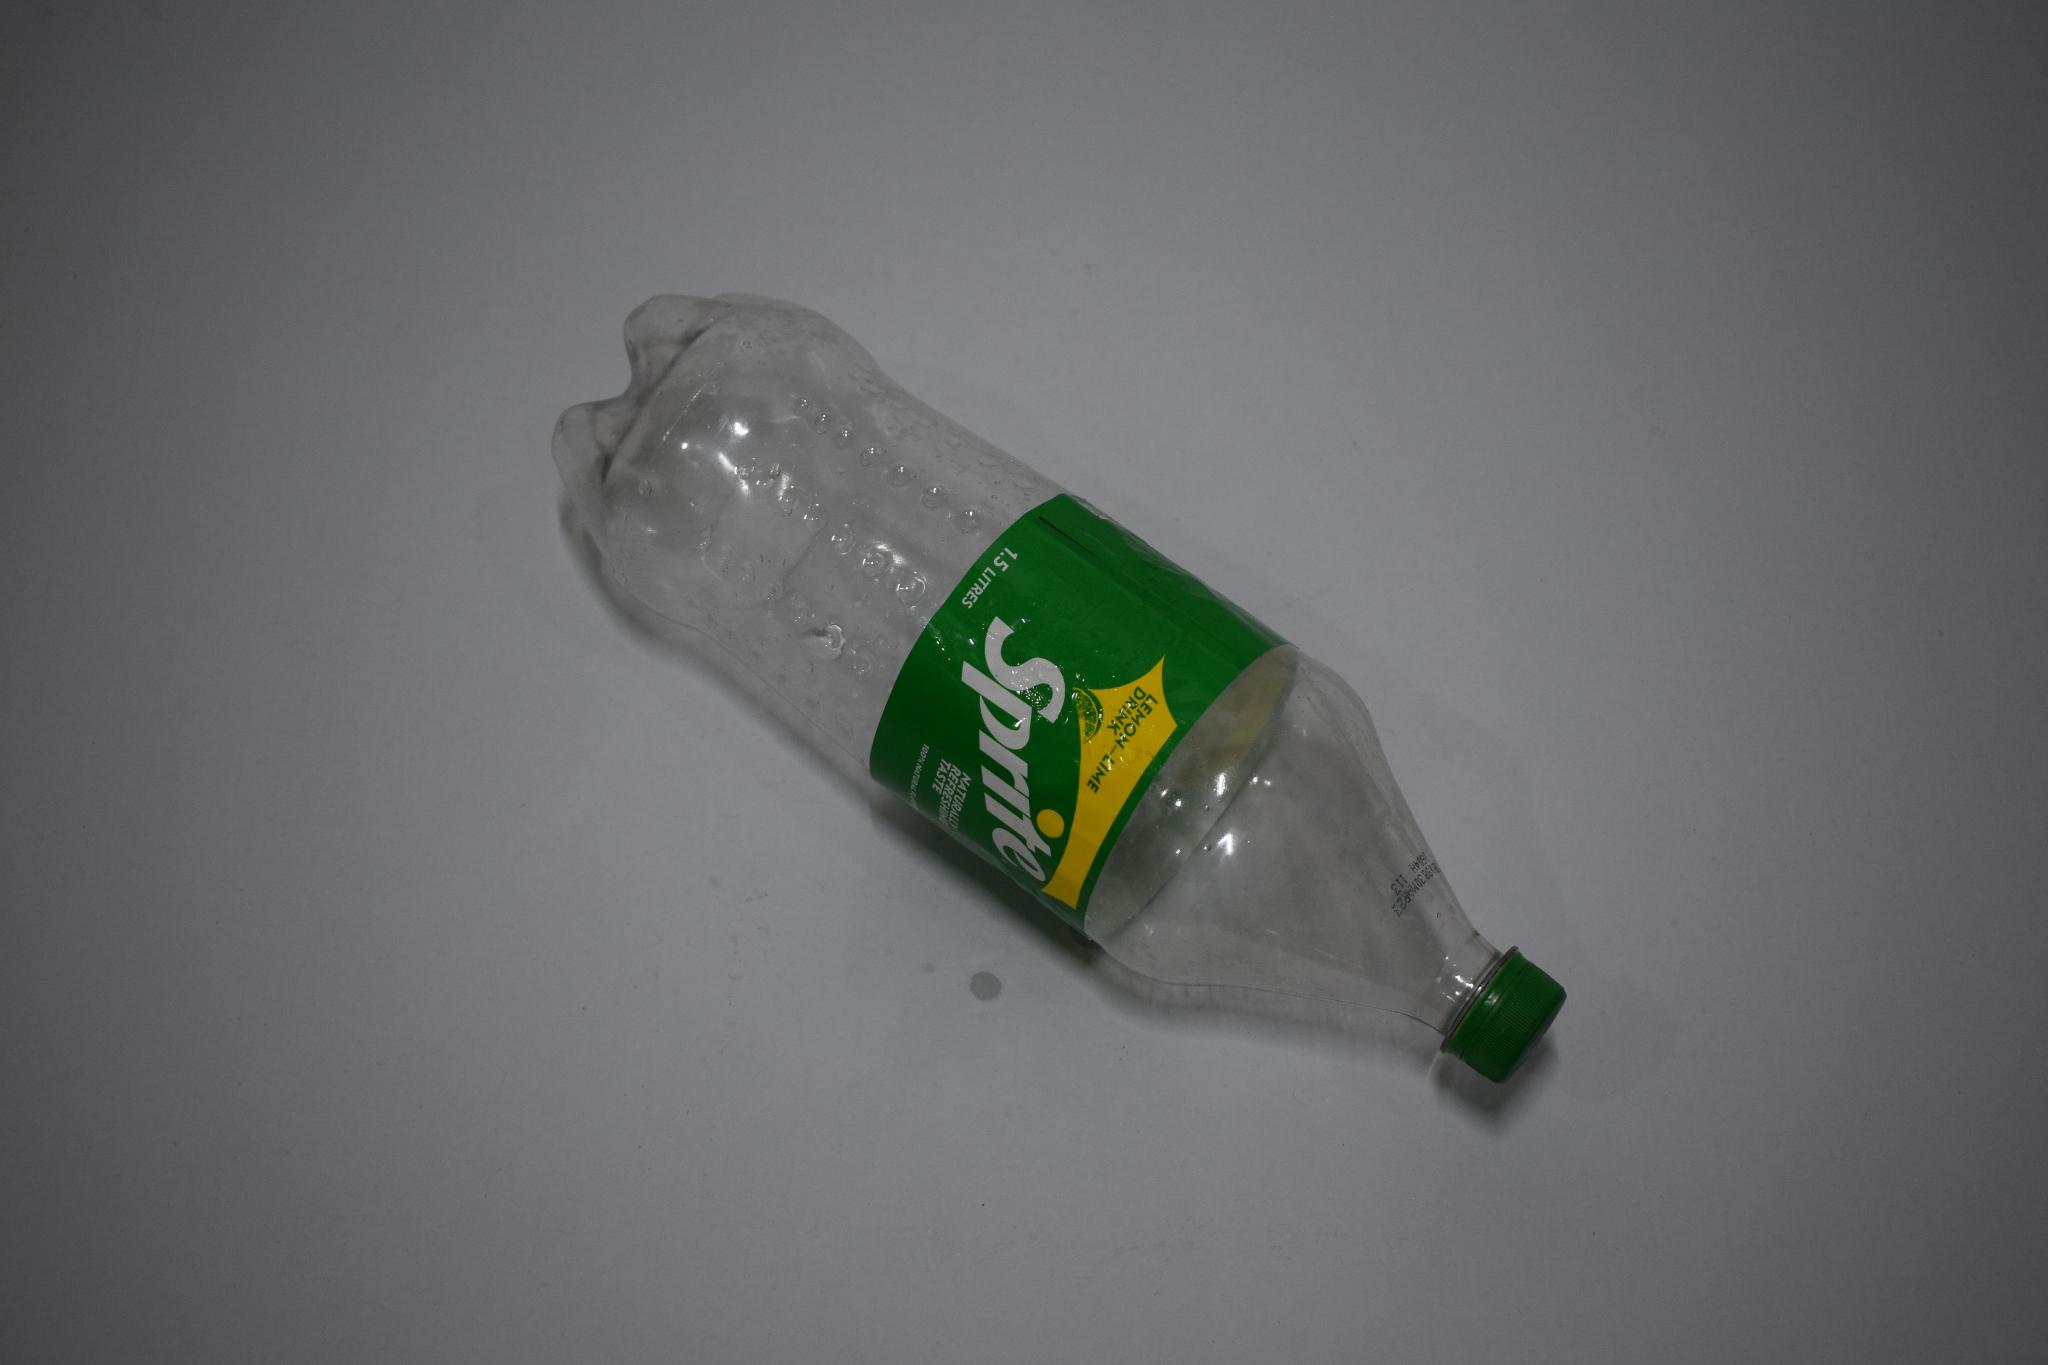bottle: (536, 285, 1579, 1108)
